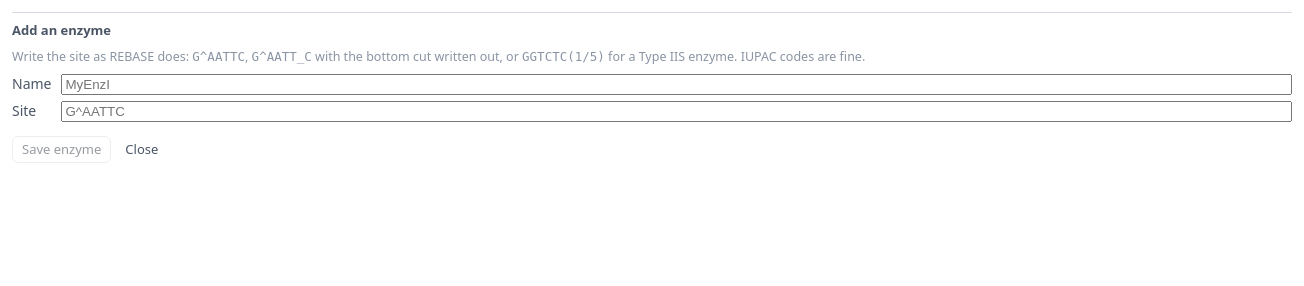
Test case: CustomEnzymeForm (#217) › describes a Type IIS enzyme
In the field named "Enzyme name": (677, 84) [62, 74, 1292, 95], type "MyBsa"
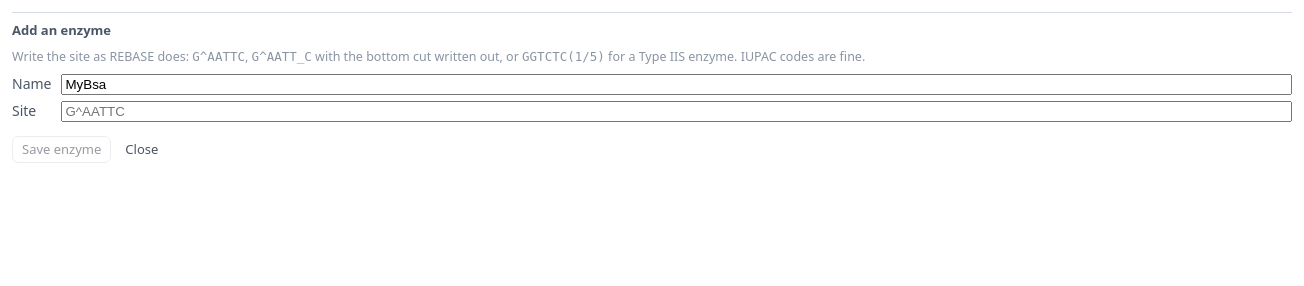
In the field named "Recognition site in REBASE notation": (677, 112) [62, 101, 1292, 122], type "GGTCTC(1/5)"
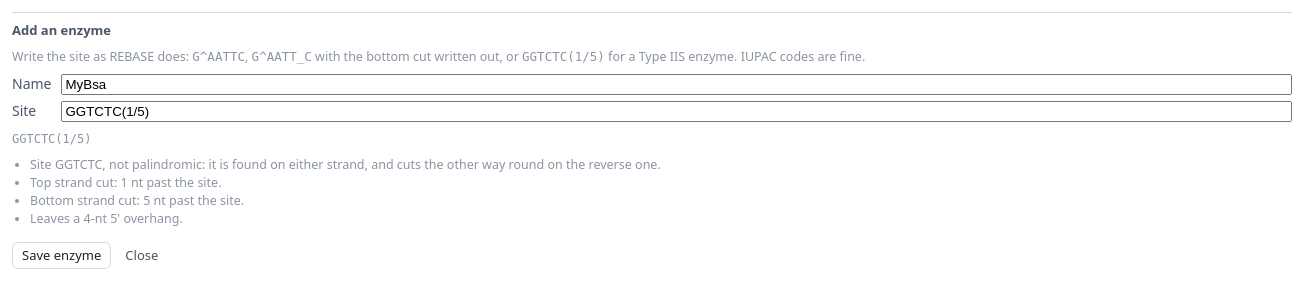
Expected: the element with test id "custom-enzyme-preview" shows "not palindromic", [30, 156, 661, 173]
Expected: the element with test id "custom-enzyme-preview" shows "Top strand cut: 1 nt past the site", [30, 174, 222, 191]
Expected: the element with test id "custom-enzyme-preview" shows "Bottom strand cut: 5 nt past the site", [30, 192, 244, 209]
